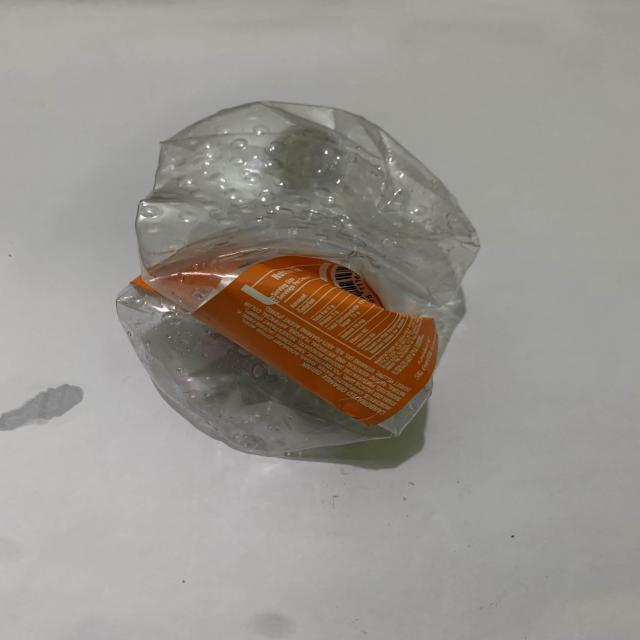bottle: (102, 70, 484, 489)
